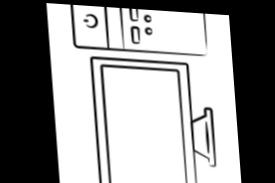monitor: (90, 57, 215, 183)
pc: (72, 5, 208, 58)
